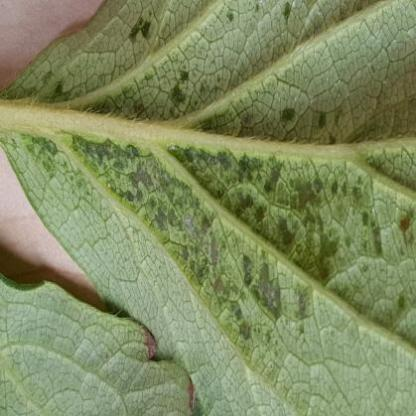Strawberry_Angular_LeafSpot: (5, 0, 415, 383)
